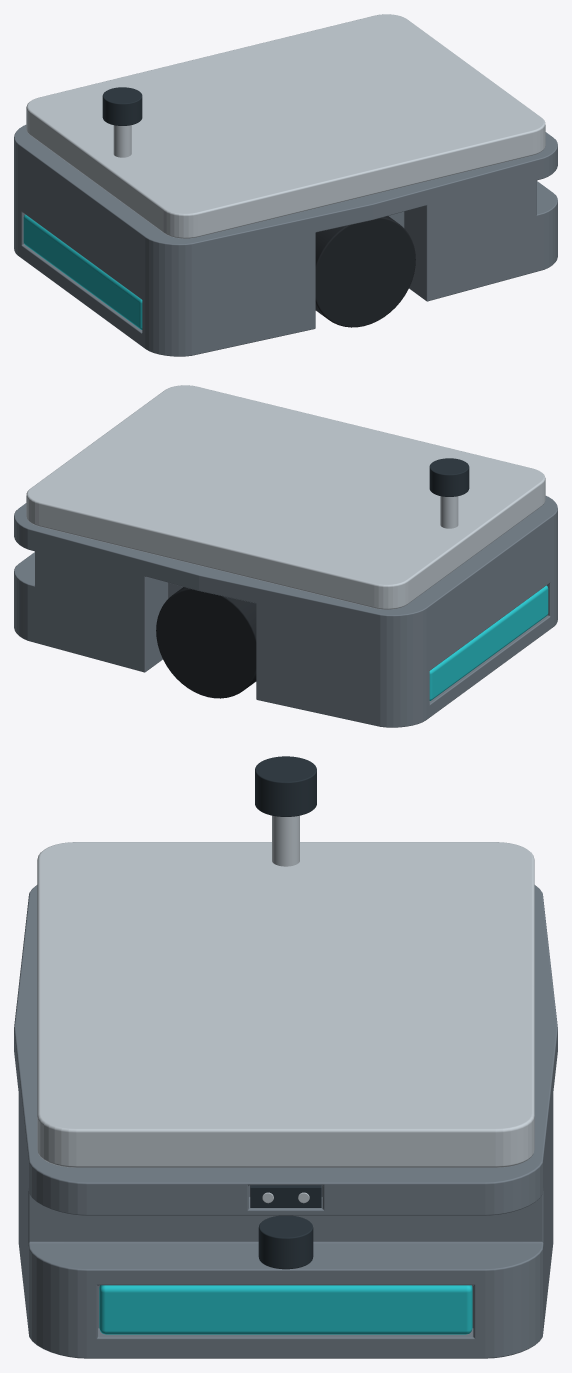
The model's file is warehouse_amr.glb.
3 renders of one model, top to bottom at view 1: azimuth 30°, elevation 25°; view 2: azimuth 150°, elevation 25°; view 3: azimuth 270°, elevation 25°, orthographic. The views are drawn at different scales.
Parts seen in each view (by area): view 1: AMR_Platform, AMR_Chassis, AMR_Drive_Wheel_Right, AMR_Bumper_Rear, AMR_Top_Lidar_Housing, AMR_Top_Lidar_Mast; view 2: AMR_Platform, AMR_Chassis, AMR_Drive_Wheel, AMR_Bumper_Rear, AMR_Top_Lidar_Housing, AMR_Top_Lidar_Mast; view 3: AMR_Platform, AMR_Chassis, AMR_Bumper_Front, AMR_Top_Lidar_Housing, AMR_Lidar_Housing, AMR_Camera_Housing, AMR_Top_Lidar_Mast.
Boxes of the visible parts, x1,y1,x2,y2 form: AMR_Platform: [26, 14, 545, 238]; AMR_Chassis: [14, 125, 557, 356]; AMR_Drive_Wheel_Right: [315, 216, 415, 327]; AMR_Bumper_Rear: [23, 214, 142, 329]; AMR_Top_Lidar_Housing: [102, 87, 142, 125]; AMR_Top_Lidar_Mast: [113, 125, 131, 157]; AMR_Platform: [26, 385, 545, 609]; AMR_Chassis: [14, 496, 557, 727]; AMR_Drive_Wheel: [156, 587, 256, 698]; AMR_Bumper_Rear: [429, 585, 548, 700]; AMR_Top_Lidar_Housing: [429, 458, 469, 496]; AMR_Top_Lidar_Mast: [440, 496, 458, 528]; AMR_Platform: [37, 842, 534, 1167]; AMR_Chassis: [14, 885, 557, 1358]; AMR_Bumper_Front: [99, 1285, 472, 1334]; AMR_Top_Lidar_Housing: [255, 756, 316, 816]; AMR_Lidar_Housing: [258, 1215, 313, 1269]; AMR_Camera_Housing: [250, 1185, 321, 1207]; AMR_Top_Lidar_Mast: [272, 815, 299, 866].
Size of the model in its own units: 0.951 by 0.474 by 0.7.
